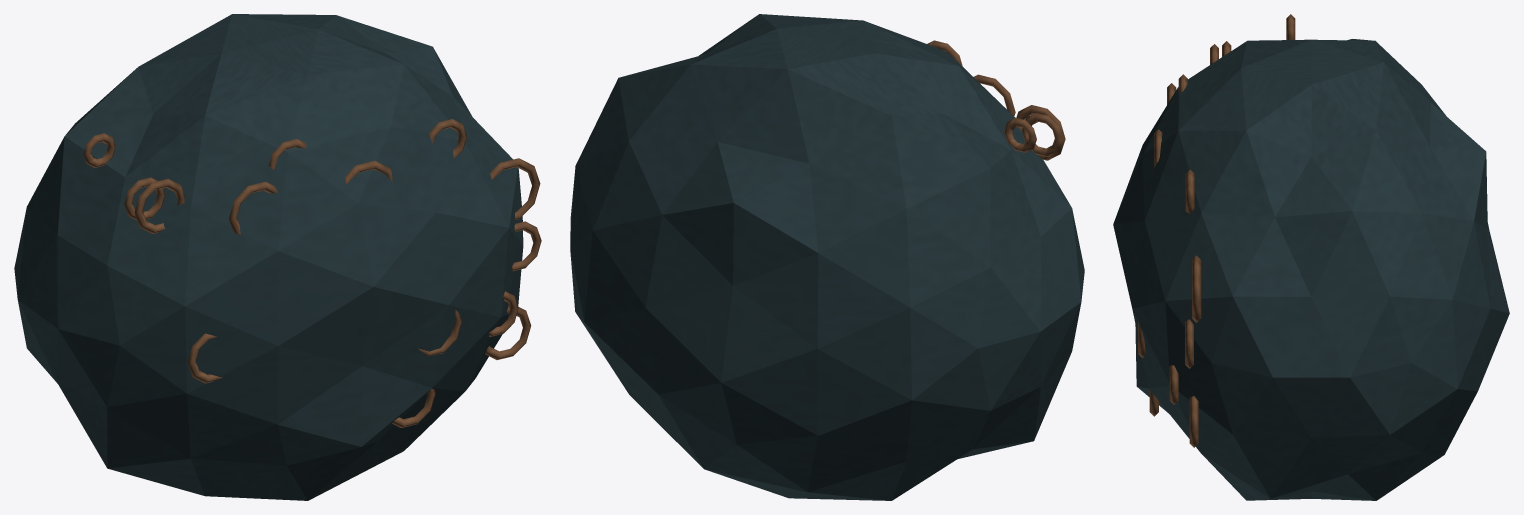
Rendered from lava_rock.glb.
The picture shows the model from 3 angles, left to right: view 1: azimuth 30°, elevation 25°; view 2: azimuth 150°, elevation 25°; view 3: azimuth 270°, elevation 25°; orthographic projection. The views are drawn at different scales.
Parts seen in each view (by area): view 1: static_ornament; view 2: static_ornament; view 3: static_ornament.
Part boxes in pixels (bbox=[...]): static_ornament: bbox=[14, 14, 541, 500]; static_ornament: bbox=[570, 14, 1084, 500]; static_ornament: bbox=[1113, 14, 1509, 500].
Bounding box in the file's own units: 1.01 × 0.8973 × 0.7792.
Materials: 1 (1 with a texture image).
